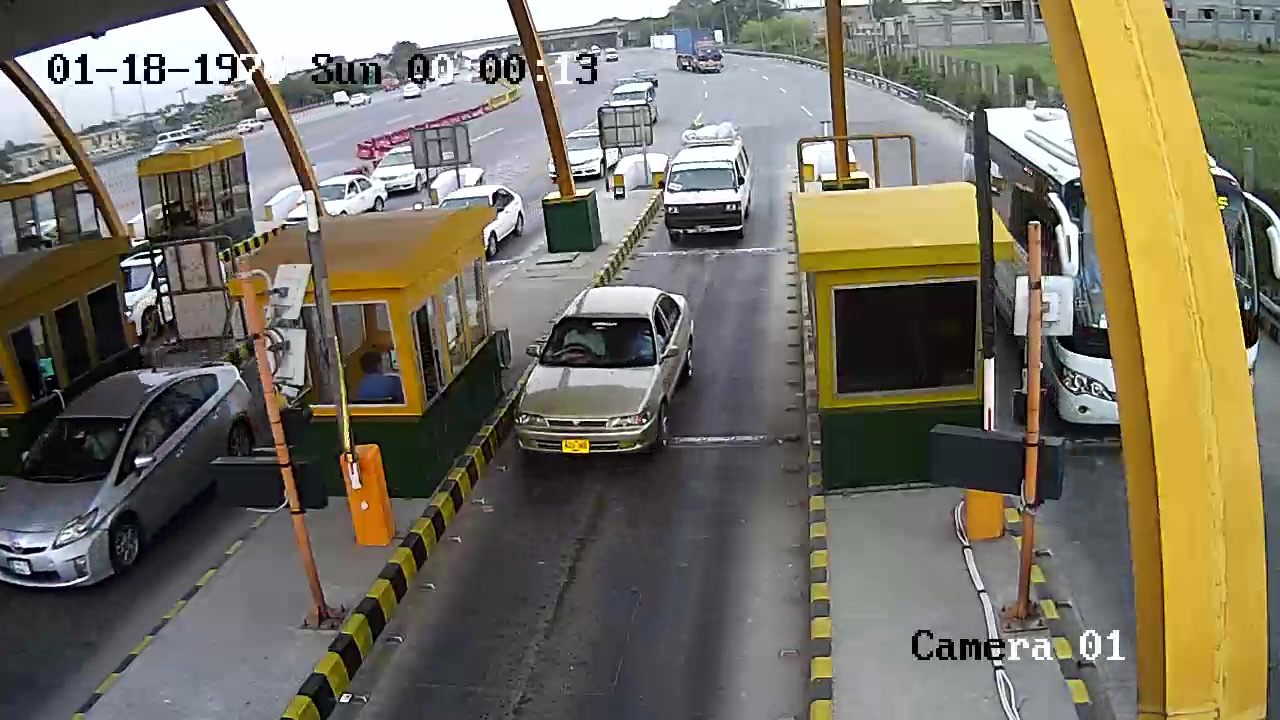F1: (509, 285, 700, 487)
